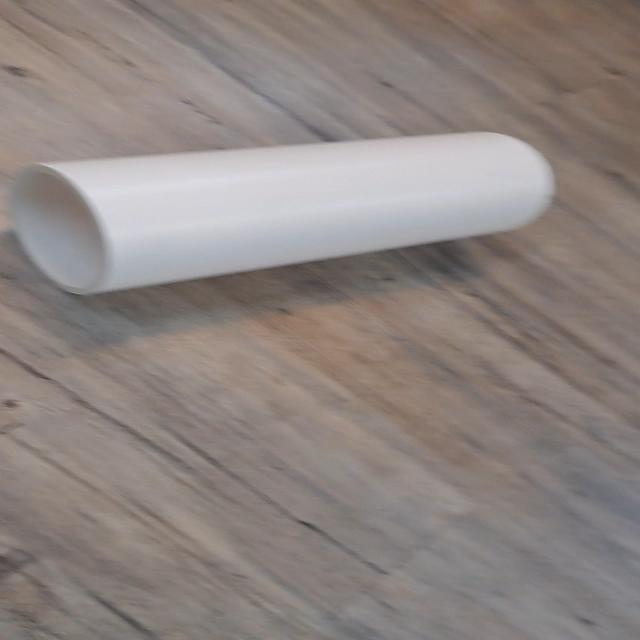CORAL: (7, 112, 584, 334)
